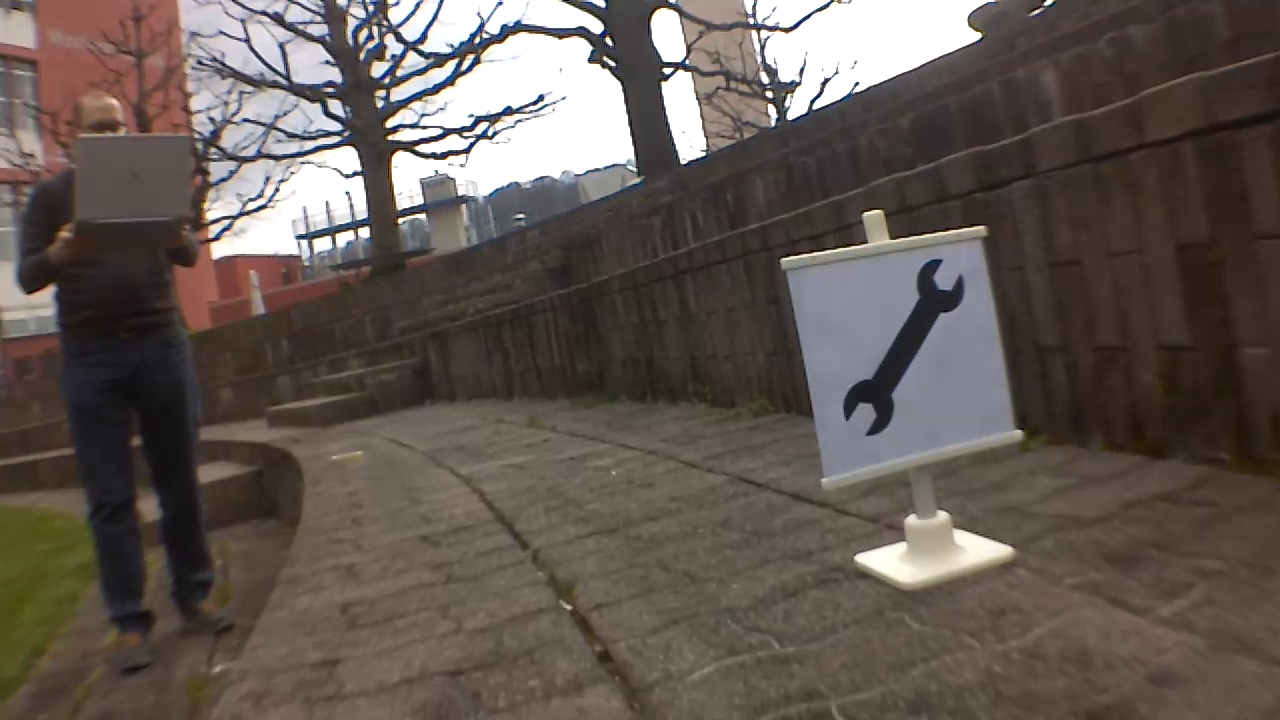wrench: (841, 258, 967, 440)
